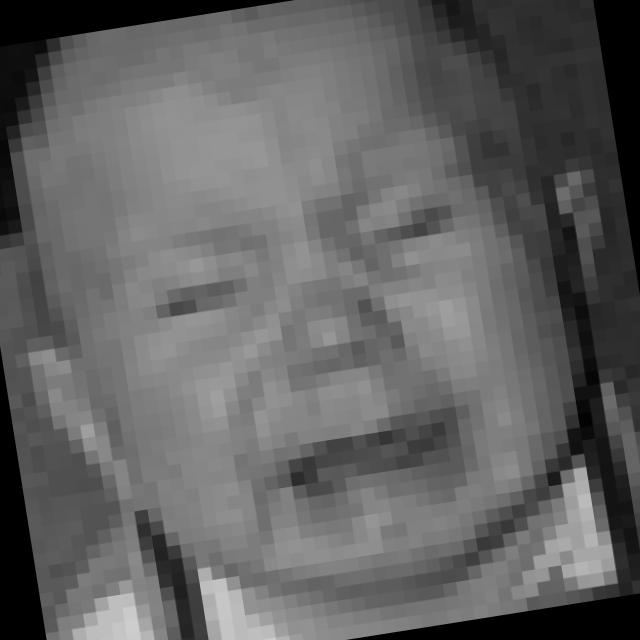sad: (77, 118, 542, 554)
